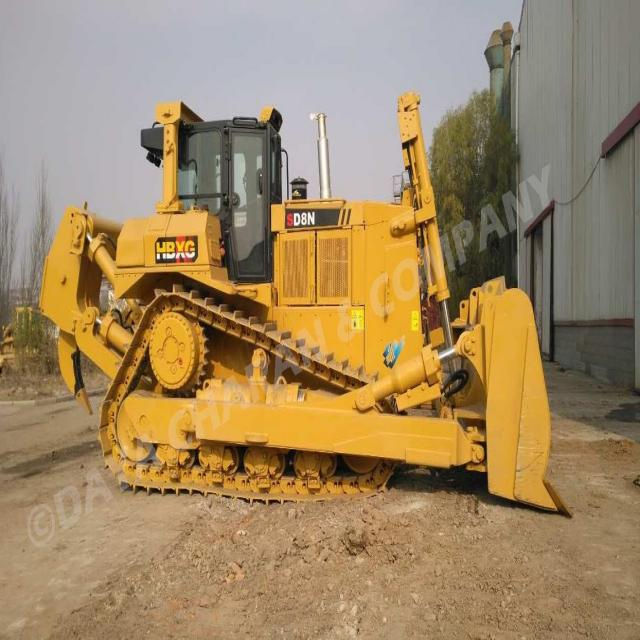Bulldozer: (37, 74, 584, 541)
